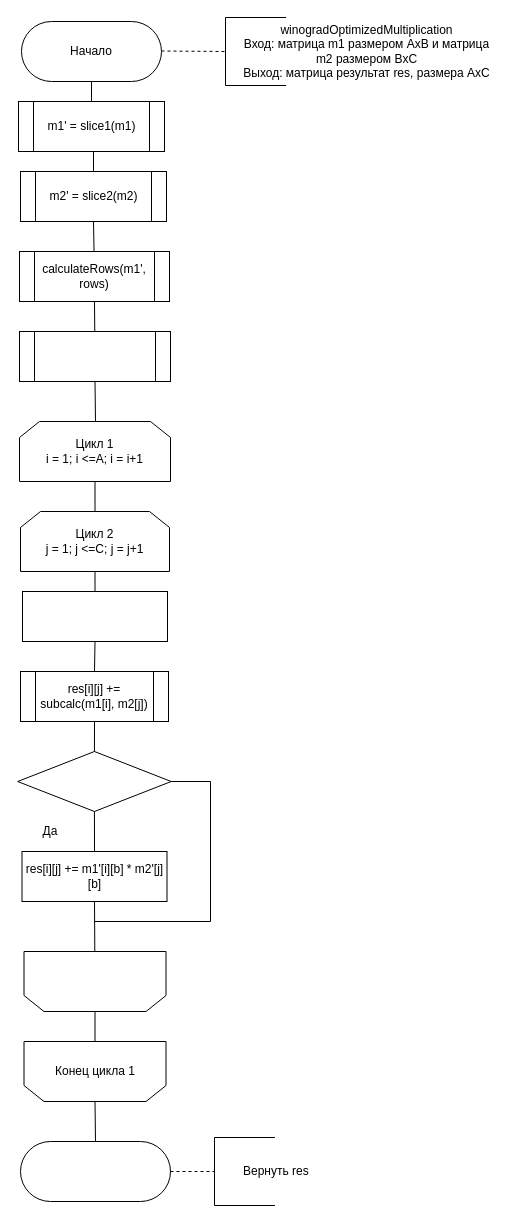
Some shapes in this 509 by 1223 pixel diagram are drawn without their labels. Here are the shapes that lost their labels. From the top down, the centre of each, then its label:
(94,356): calculateCols(m2', cols)
(95,616): res[i][j] = rows[i] + cols[j]
(94,781): B - нечётное?
(94,981): Конец цикла 2
(95,1171): Конец
